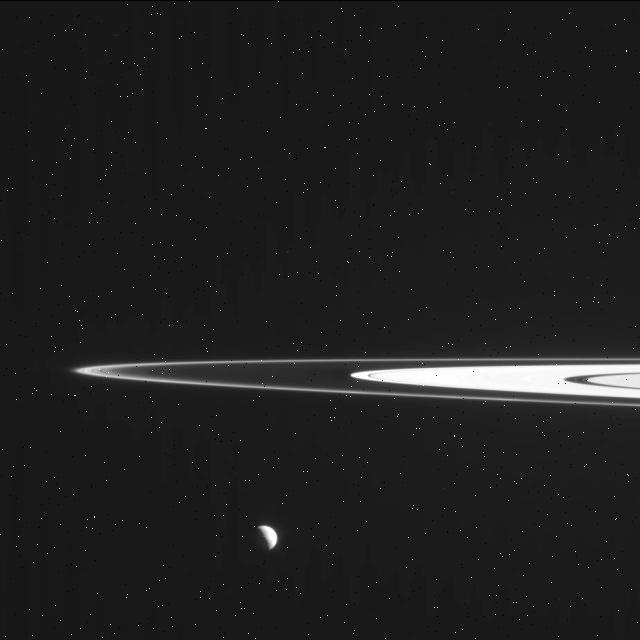Saturn: (68, 354, 640, 407)
